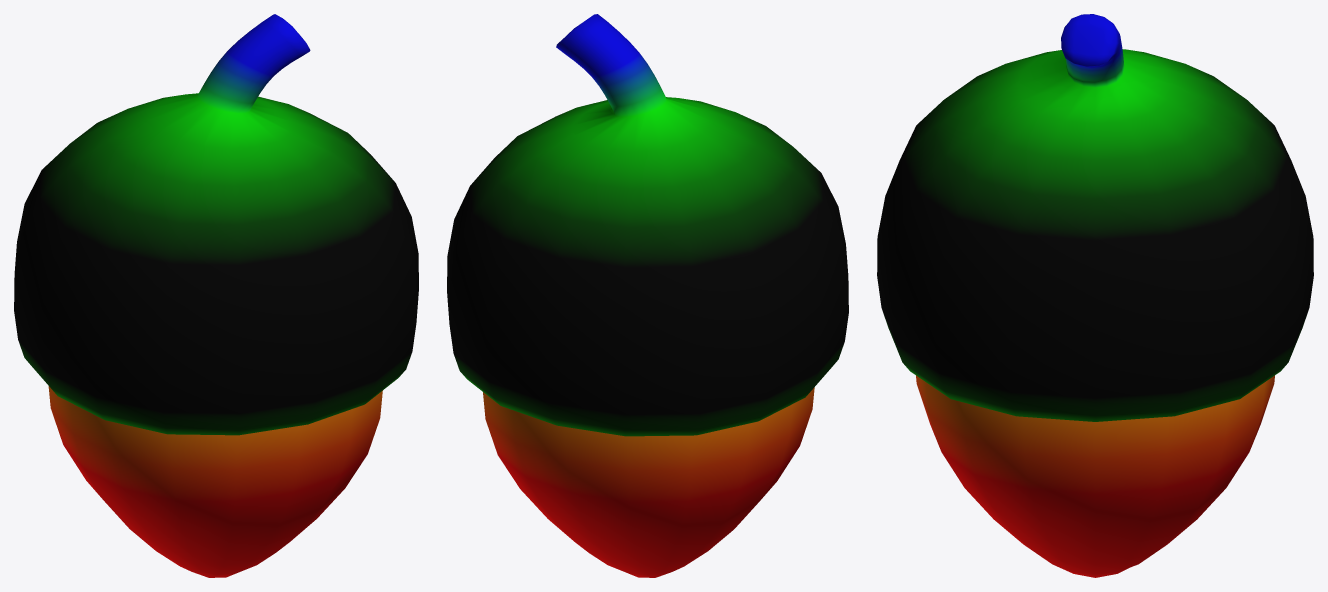
Rendered from Acorn.fbx.
3 views of the same model, side by side, from view 1: azimuth 30°, elevation 25°; view 2: azimuth 150°, elevation 25°; view 3: azimuth 270°, elevation 25° (orthographic). The views are drawn at different scales.
Visible parts, largest first — view 1: Lod0; view 2: Lod0; view 3: Lod0.
Boxes of the visible parts, x1,y1,x2,y2 form: Lod0: [14, 14, 418, 577]; Lod0: [447, 14, 848, 577]; Lod0: [877, 14, 1313, 577].
Size of what is drawn, in the model's own units: 7.26 by 10.84 by 7.26.
